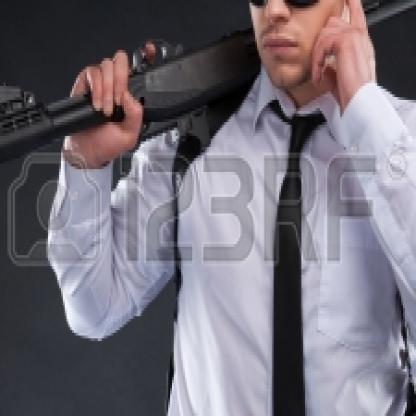gun: (0, 0, 226, 214)
